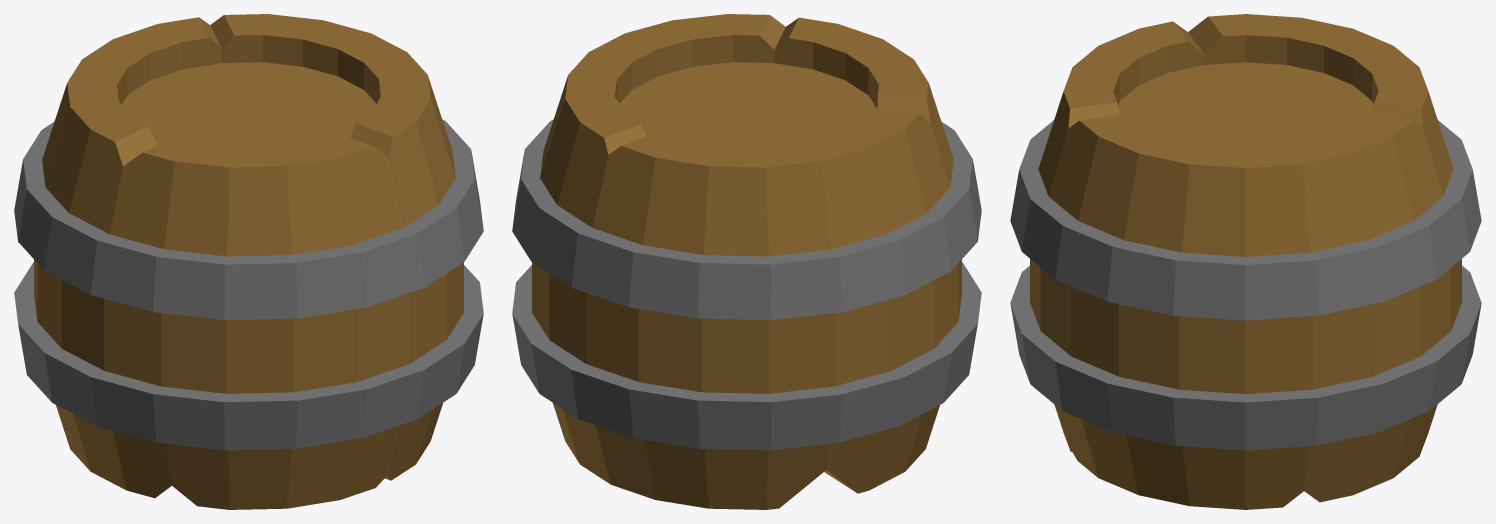
Rendered from Barrel_S.fbx.
3 views of the same model, side by side, from view 1: azimuth 30°, elevation 25°; view 2: azimuth 150°, elevation 25°; view 3: azimuth 270°, elevation 25° (orthographic).
Visible parts, largest first — view 1: Barrel1.003; view 2: Barrel1.003; view 3: Barrel1.003.
Part boxes in pixels (box(x1,y1,x2,y2)): Barrel1.003: box(14, 14, 483, 509); Barrel1.003: box(512, 14, 981, 509); Barrel1.003: box(1010, 14, 1481, 509).
Size of the model in its own units: 100 by 80 by 100.
